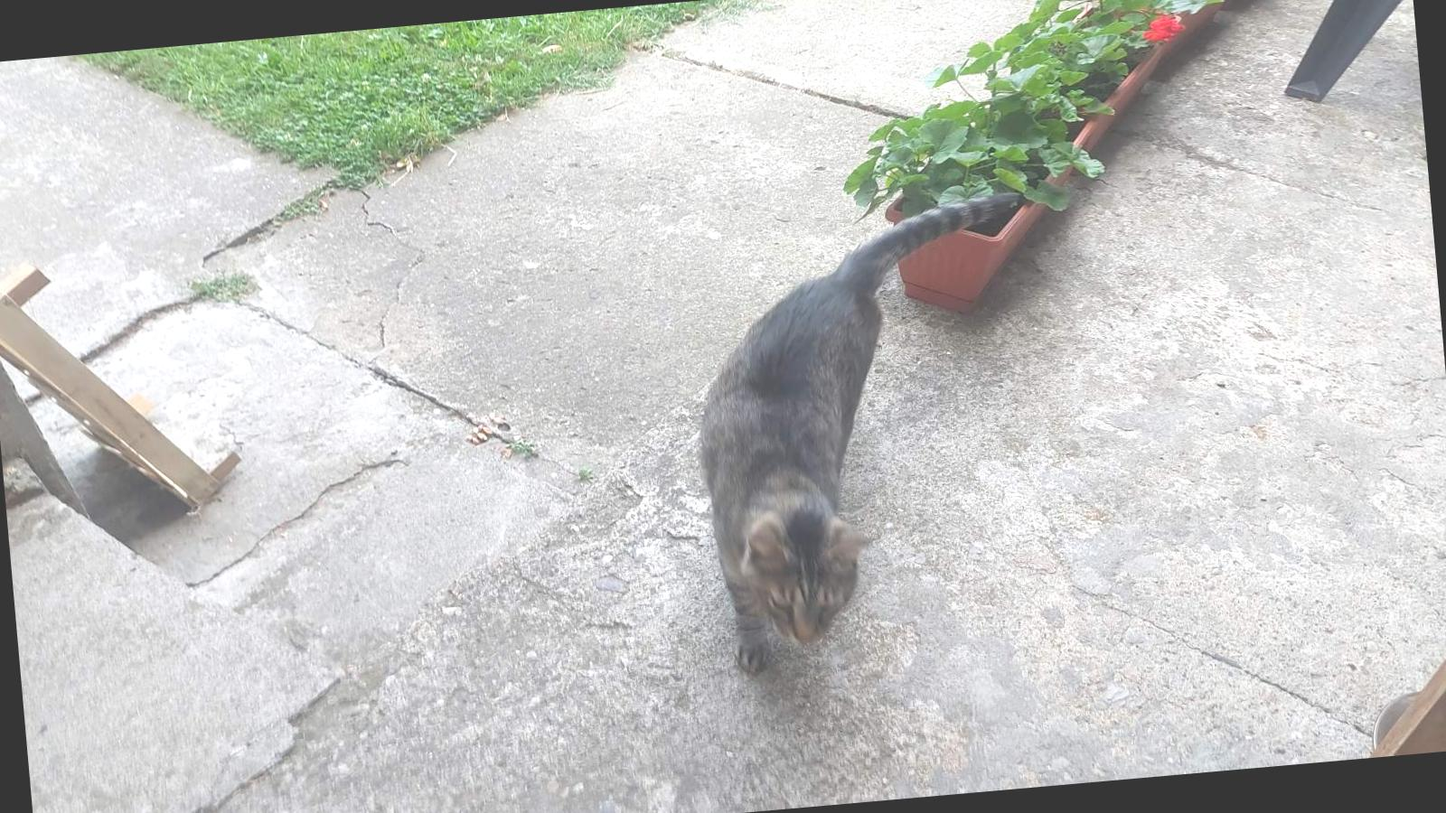macka: (681, 191, 1055, 678)
